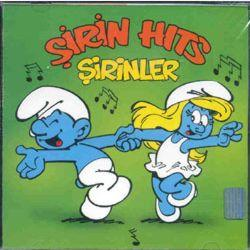smurf: (129, 80, 244, 224), (12, 85, 130, 224)
